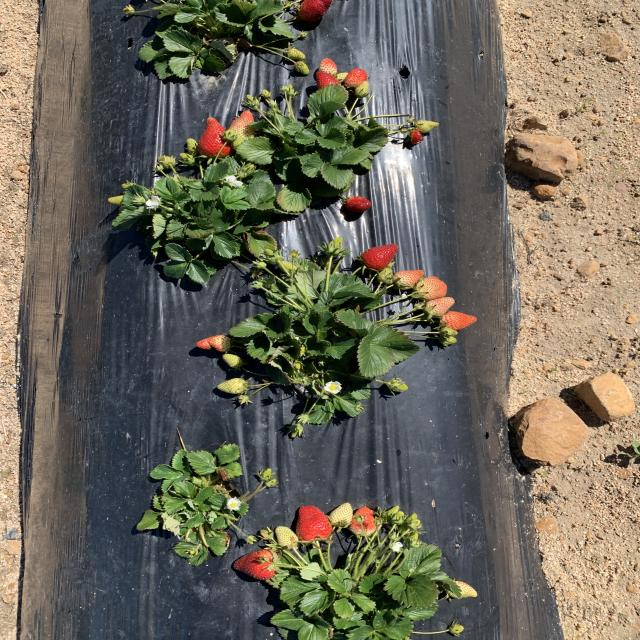unripe: (294, 504, 332, 544), (198, 115, 232, 158), (233, 550, 279, 580), (312, 71, 347, 106), (360, 244, 402, 270), (296, 0, 329, 27), (354, 508, 381, 537), (342, 197, 374, 214), (408, 130, 425, 148)
